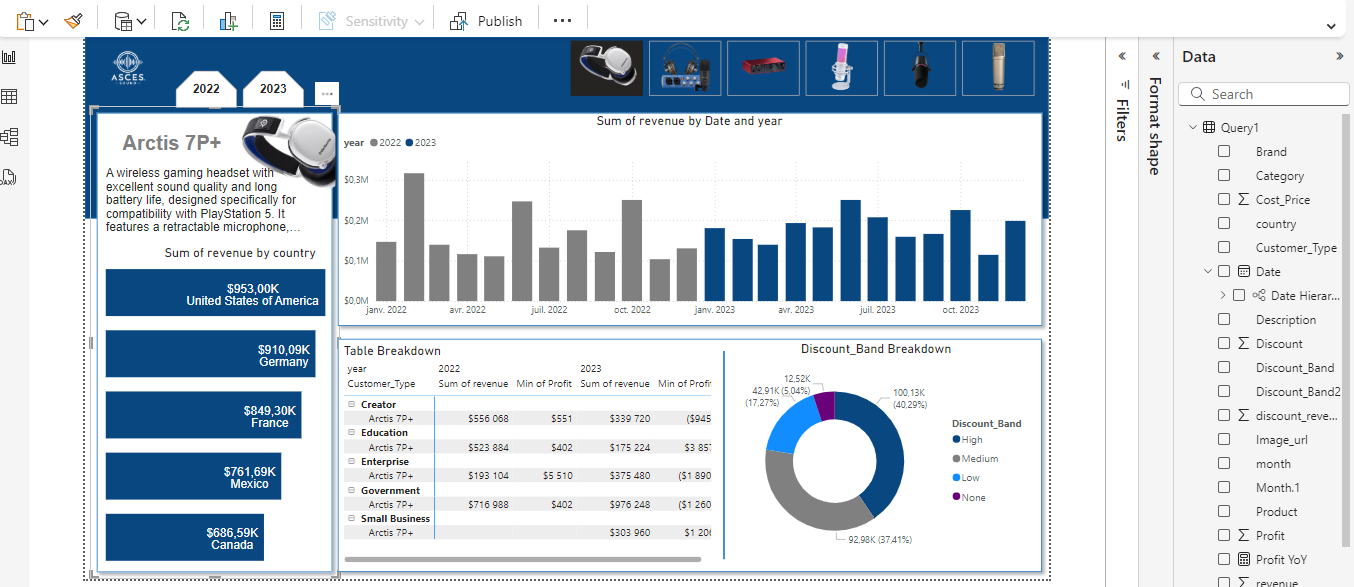

This screenshot's page, from the dashboard's own definition file:
{"tool":"powerbi","page":{"name":"Page 1","canvas":[1280,720],"ordinal":0},"visuals":[{"type":"shape","box":[0,0,1280,241.2],"z":0},{"type":"shape","box":[7.3,91.6,331,628.4],"z":1000},{"type":"shape","box":[326.4,91.6,954,301.1],"z":2000},{"type":"shape","box":[326.8,392,953.2,327.8],"z":3000},{"type":"image","box":[22.4,7.8,64.2,64.2],"z":4000},{"type":"advancedSlicerVisual","fields":{"Values":["Query1.Image_url"]},"box":[640.2,0,626.6,83.4],"z":5000},{"type":"cardVisual","fields":{"Data":["Min(Query1.Product)"]},"box":[185,77.1,153.2,165],"z":6000},{"type":"cardVisual","fields":{"Data":["Min(Query1.Product)"]},"box":[15.4,77.1,199.5,121.5],"z":7000},{"type":"cardVisual","fields":{"Data":["Min(Query1.Description)"]},"box":[10.9,130.6,315.6,165.9],"z":8000},{"type":"clusteredBarChart","fields":{"Category":["Query1.country"],"Y":["Sum(Query1.revenue)"]},"box":[22.7,276.6,367.3,427.1],"z":9000},{"type":"columnChart","fields":{"Y":["Sum(Query1.revenue)"],"Category":["Query1.Date"],"Series":["Query1.year"]},"box":[338.2,101.6,928.6,280.2],"z":10000},{"type":"donutChart","title":"Discount_Band Breakdown","fields":{"Category":["Query1.Discount_Band"],"Y":["Sum(Query1.Sale_Price)"]},"box":[836.1,403.5,430.7,300.2],"z":11000},{"type":"pivotTable","title":"Table Breakdown","fields":{"Rows":["Query1.Customer_Type","Query1.Product"],"Columns":["Query1.year"],"Values":["Sum(Query1.revenue)","Min(Query1.Profit)"]},"box":[338.2,406.2,497.8,297.4],"z":12000},{"type":"shape","box":[698.2,417.1,300.2,276.6],"z":13000},{"type":"advancedSlicerVisual","fields":{"Values":["Query1.Date.Variation.Date Hierarchy.Year"]},"box":[116.1,39.9,180.5,59.8],"z":14000}]}

Visuals, with their boxes on the page's 1280x720 design canvas (x1, y1, x2, y2). These are canvas units, not pixel positions in the 1354x587 screenshot, which may show the page scaled, cropped or inside an application window:
shape: BBox(0, 0, 1280, 241)
shape: BBox(7, 92, 338, 720)
shape: BBox(326, 92, 1280, 393)
shape: BBox(327, 392, 1280, 720)
image: BBox(22, 8, 87, 72)
advancedSlicerVisual - Query1.Image_url: BBox(640, 0, 1267, 83)
cardVisual - Min(Query1.Product): BBox(185, 77, 338, 242)
cardVisual - Min(Query1.Product): BBox(15, 77, 215, 199)
cardVisual - Min(Query1.Description): BBox(11, 131, 326, 296)
clusteredBarChart - Query1.country x Sum(Query1.revenue): BBox(23, 277, 390, 704)
columnChart - Sum(Query1.revenue) x Query1.Date: BBox(338, 102, 1267, 382)
"Discount_Band Breakdown" donutChart: BBox(836, 404, 1267, 704)
"Table Breakdown" pivotTable: BBox(338, 406, 836, 704)
shape: BBox(698, 417, 998, 694)
advancedSlicerVisual - Query1.Date.Variation.Date Hierarchy.Year: BBox(116, 40, 297, 100)
